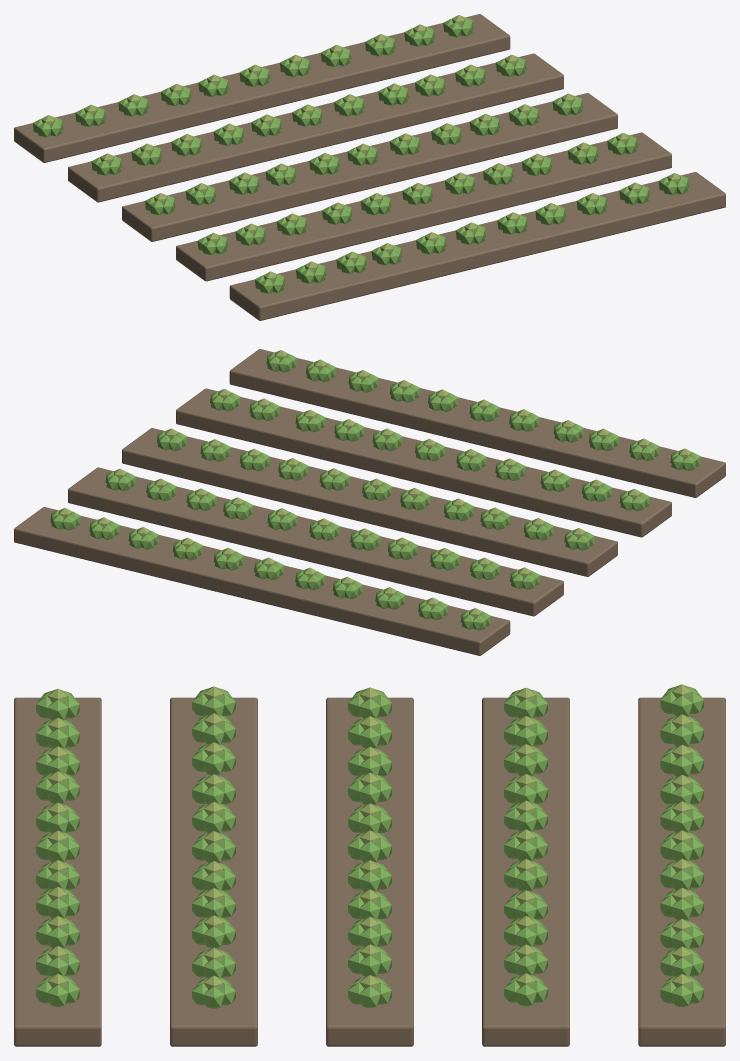
Rendered from VegetableRows.fbx.
3 renders of one model, top to bottom at view 1: azimuth 30°, elevation 25°; view 2: azimuth 150°, elevation 25°; view 3: azimuth 270°, elevation 25°, orthographic. The views are drawn at different scales.
Visible parts, largest first — view 1: VegetableRows; view 2: VegetableRows; view 3: VegetableRows.
Boxes of the visible parts, x1=… form: VegetableRows: x1=14, y1=14, x2=725, y2=320; VegetableRows: x1=14, y1=349, x2=725, y2=655; VegetableRows: x1=14, y1=684, x2=725, y2=1046.
Size of the model in its own units: 4 by 0.27 by 3.65.
